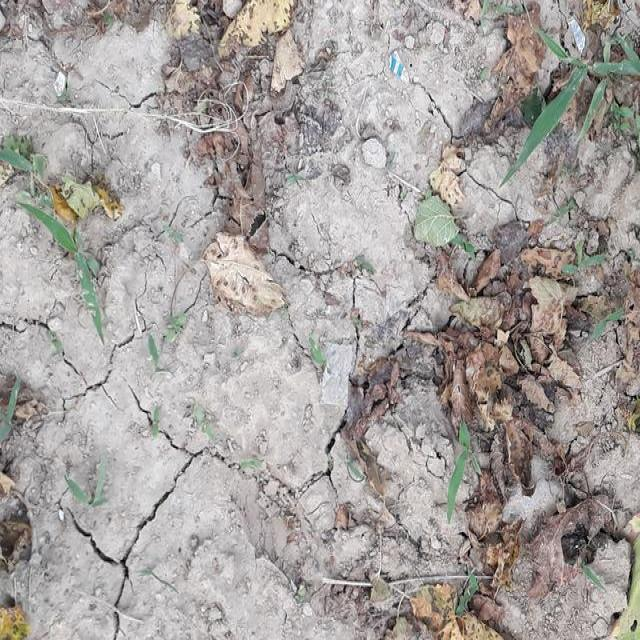weed: (522, 22, 636, 155), (23, 207, 110, 345), (446, 407, 476, 523), (5, 151, 53, 187), (61, 480, 113, 510)
